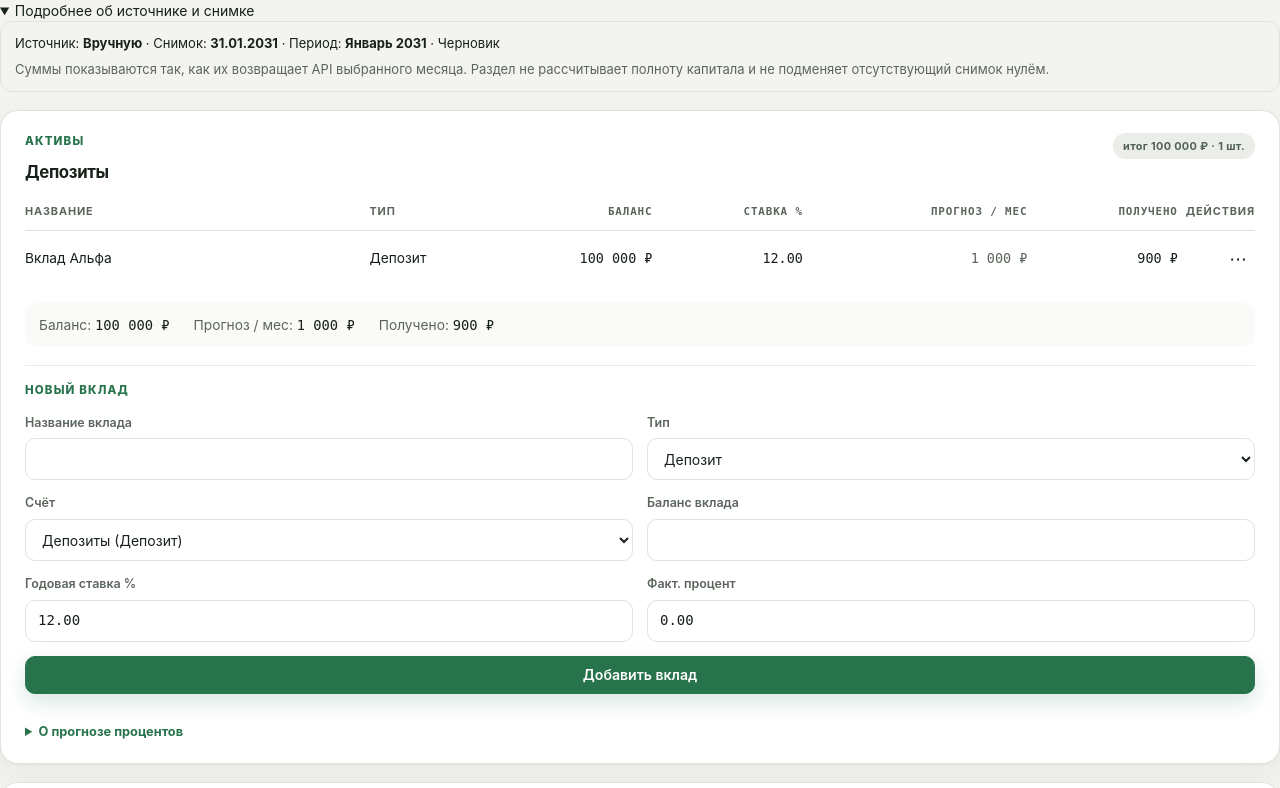
Scenario: UiV2MonthAssetsSection › edits a deposit with optimistic concurrency and confirms via readback
Click the button named "Действия для вклада «Вклад Альфа»" at x=1238, y=259, box [1221, 243, 1255, 275]
(page scrolled)
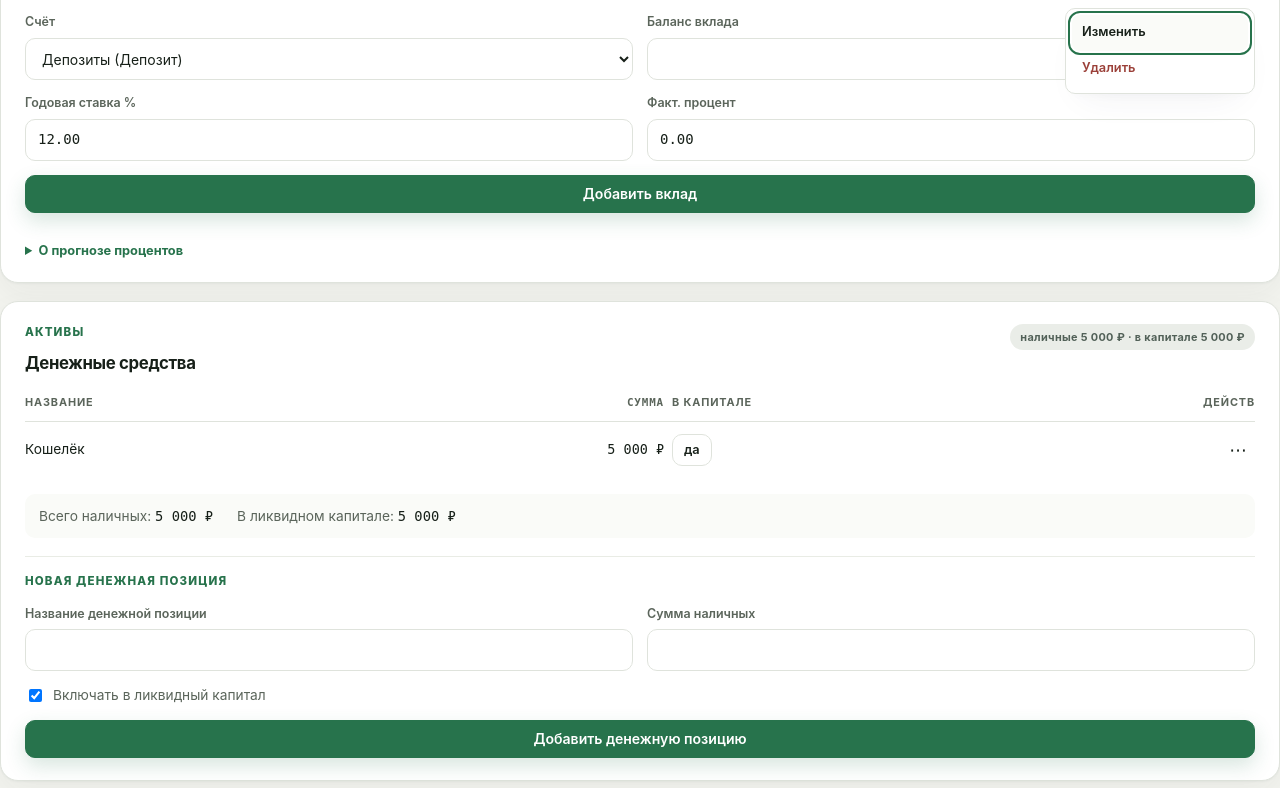
Click the menu item "Изменить" at x=1160, y=33, box [1072, 15, 1248, 51]
(page scrolled)
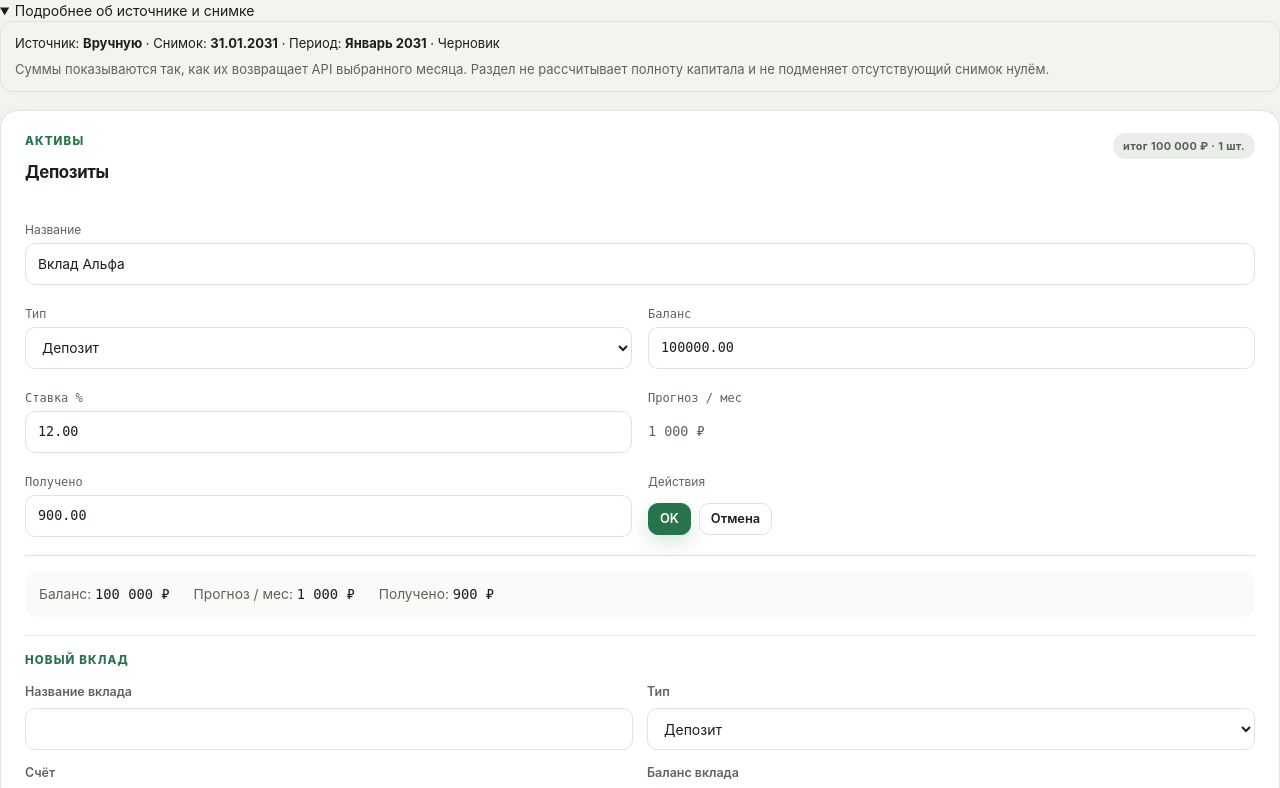
Now the 1st field showing "Вклад Альфа" is shown, box [25, 244, 1255, 286]
Replace the text in the 2nd field showing "100000.00" with "110000.00" at x=952, y=348, box [648, 328, 1255, 370]
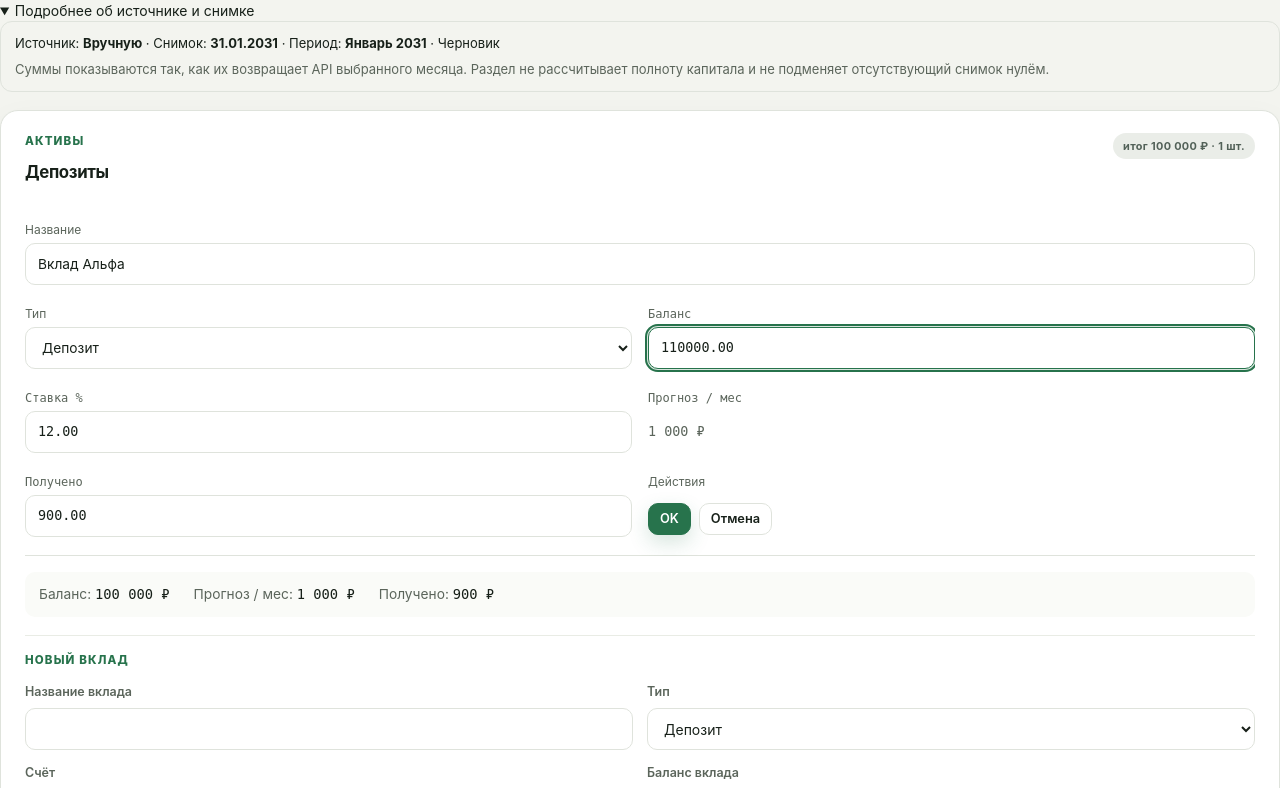
Click the button "OK" at x=669, y=519, box [648, 503, 691, 535]
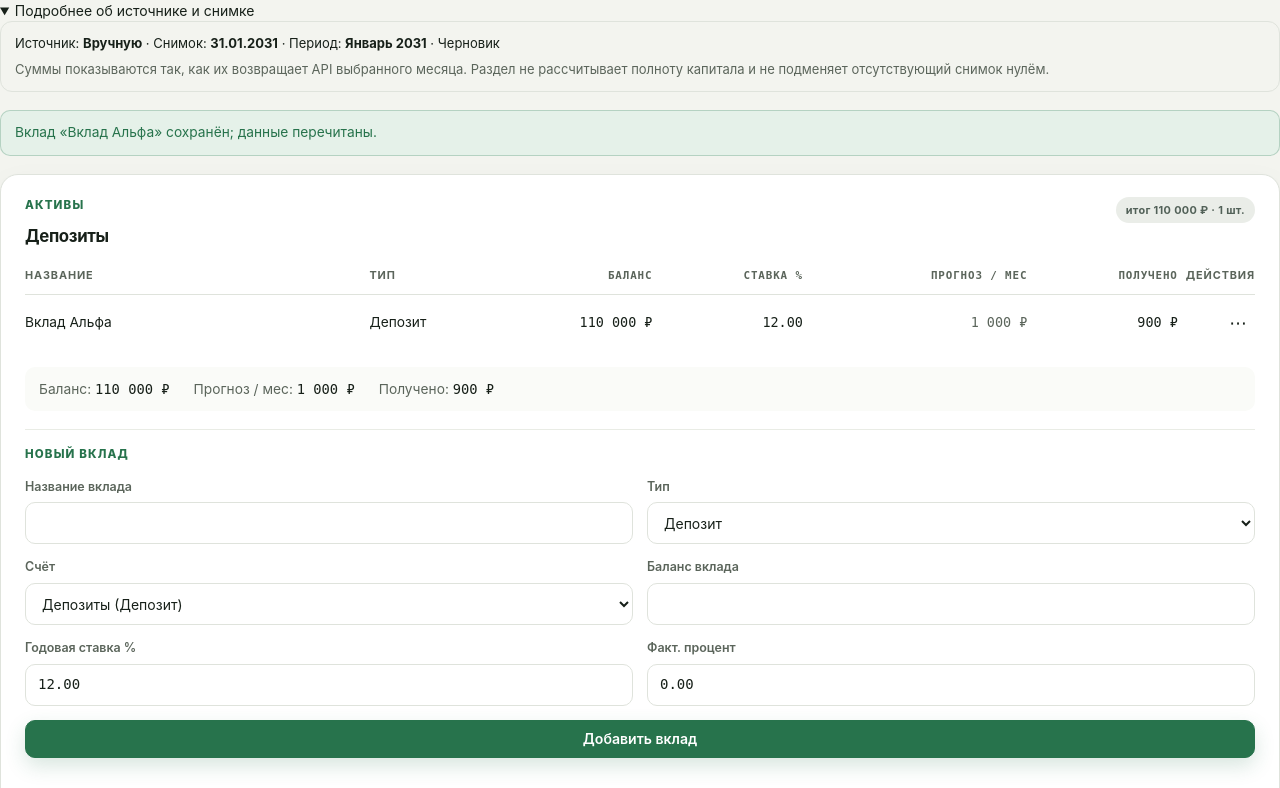
Now the text "Вклад «Вклад Альфа» сохранён; данные перечитаны." is shown, box [0, 110, 1279, 156]
